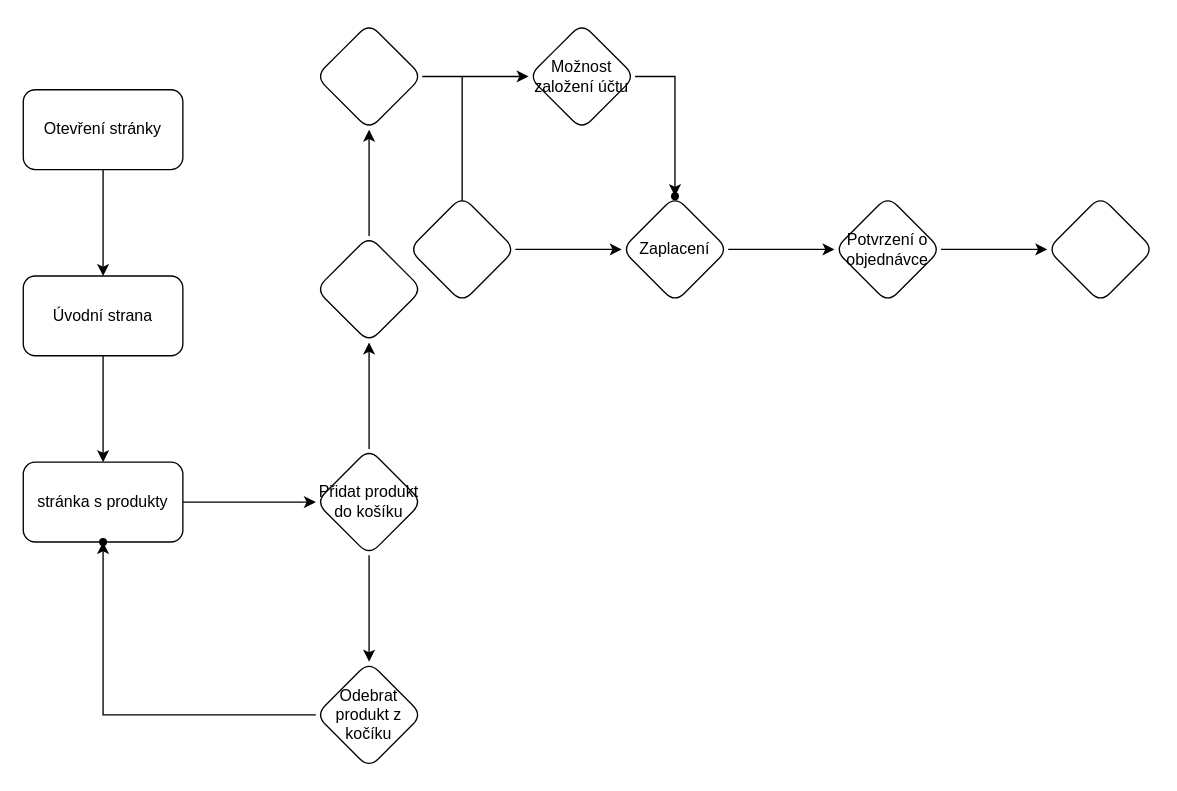
The diagram is 1177 pixels wide and 791 high, and some of its shapes have lost their labels. Here are the shapes that lost their labels. From the top down, the box of each, then its label:
(315, 22, 422, 130): Zadání faktturačních informací
(408, 195, 515, 303): Přihlášení
(1046, 195, 1154, 303): E-mailová faktura
(315, 235, 422, 342): Vybrat množství
